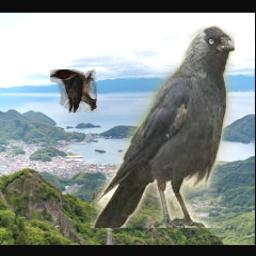Crow: (92, 26, 236, 229)
Swallow: (50, 69, 97, 113)
